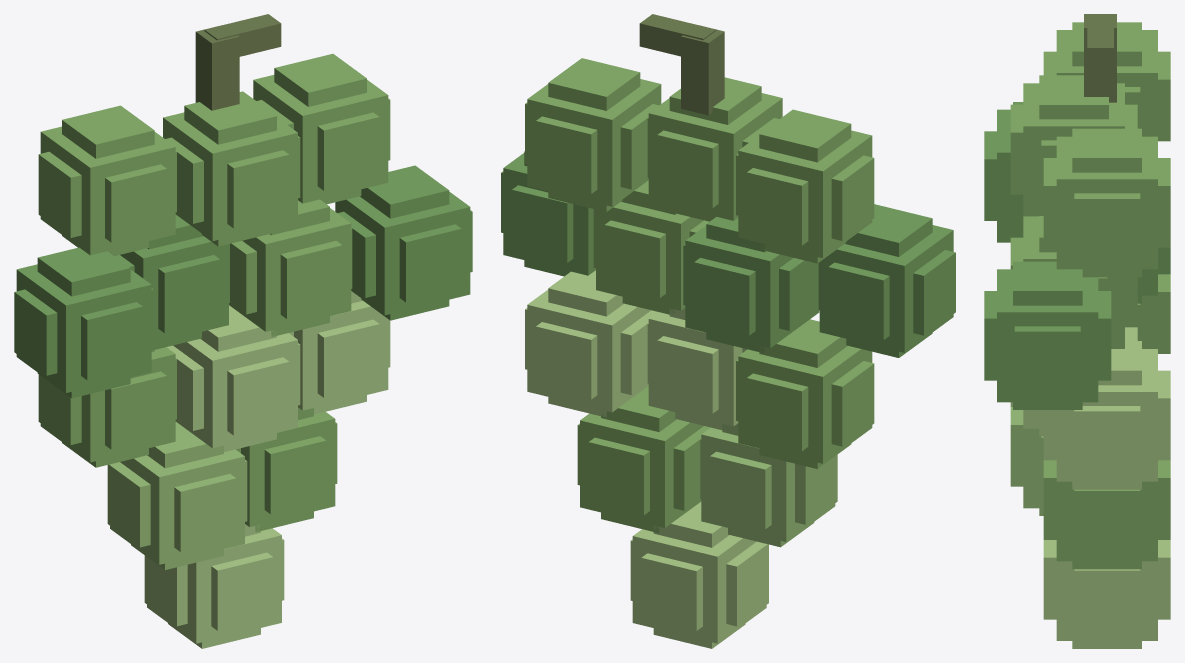
Rendered from GR-02_ifg_ten.glb.
3 views of the same model, side by side, from view 1: azimuth 30°, elevation 25°; view 2: azimuth 150°, elevation 25°; view 3: azimuth 270°, elevation 25° (orthographic). The views are drawn at different scales.
Parts seen in each view (by area): view 1: IFG Ten (Sweet Globe®) · original workbench cubes; view 2: IFG Ten (Sweet Globe®) · original workbench cubes; view 3: IFG Ten (Sweet Globe®) · original workbench cubes.
Boxes of the visible parts, x1=… form: IFG Ten (Sweet Globe®) · original workbench cubes: x1=14, y1=14, x2=472, y2=648; IFG Ten (Sweet Globe®) · original workbench cubes: x1=501, y1=14, x2=955, y2=648; IFG Ten (Sweet Globe®) · original workbench cubes: x1=984, y1=14, x2=1170, y2=648.
Size of the model in its own units: 0.1528 by 0.2053 by 0.0565.
